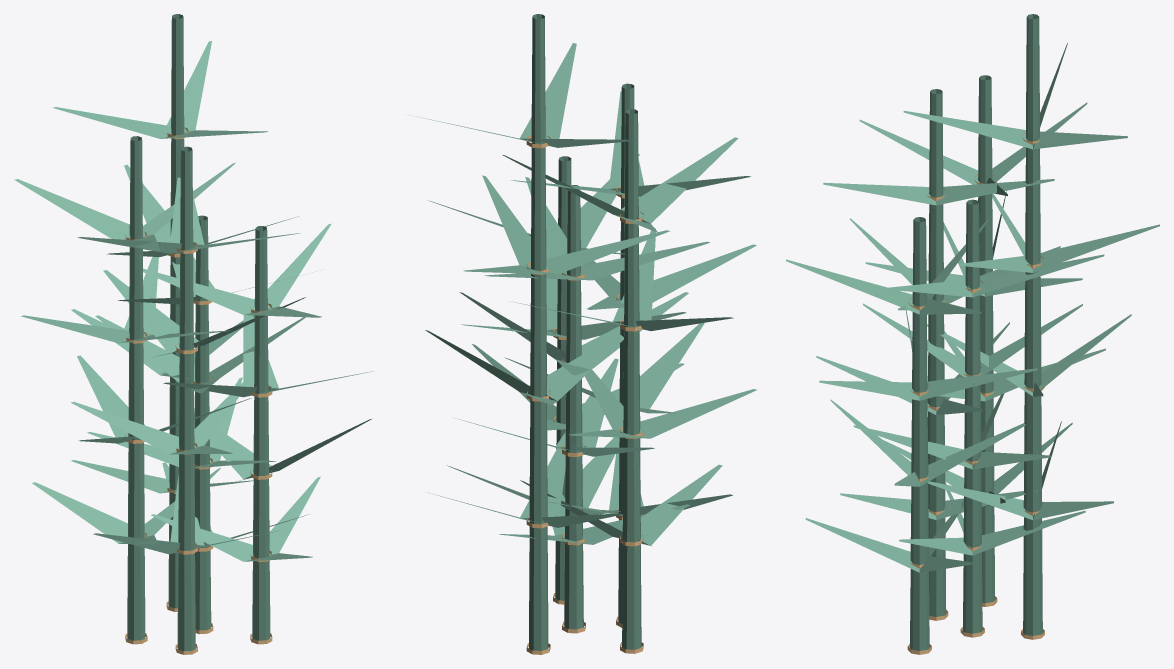
Rendered from moonfall_sacred_bamboo.gltf.
3 renders of one model, left to right at view 1: azimuth 30°, elevation 25°; view 2: azimuth 150°, elevation 25°; view 3: azimuth 270°, elevation 25°, orthographic. The views are drawn at different scales.
Parts seen in each view (by area): view 1: moonfall_sacred_bamboo; view 2: moonfall_sacred_bamboo; view 3: moonfall_sacred_bamboo.
Part boxes in pixels (box(x1,y1,x2,y2)): moonfall_sacred_bamboo: box(14, 14, 372, 654); moonfall_sacred_bamboo: box(411, 14, 756, 654); moonfall_sacred_bamboo: box(786, 14, 1159, 654).
Size of the model in its own units: 8.38 by 15.8 by 8.66.
